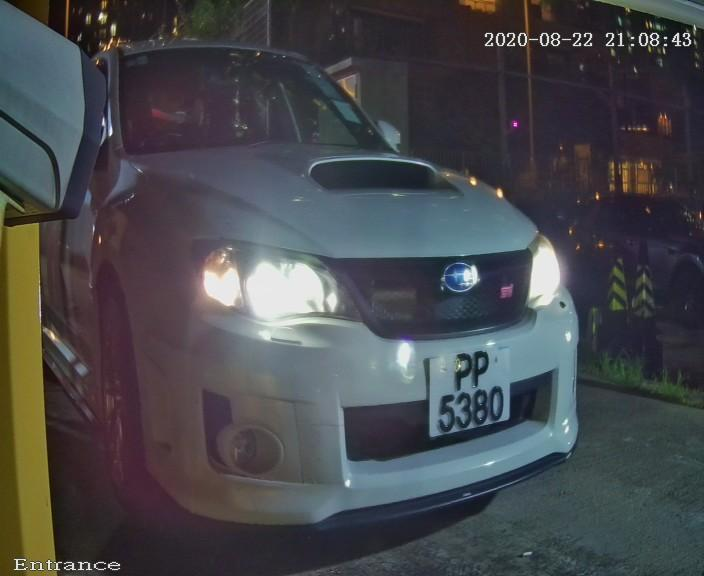Car: (35, 8, 632, 564)
License Plate: (383, 326, 555, 450)
